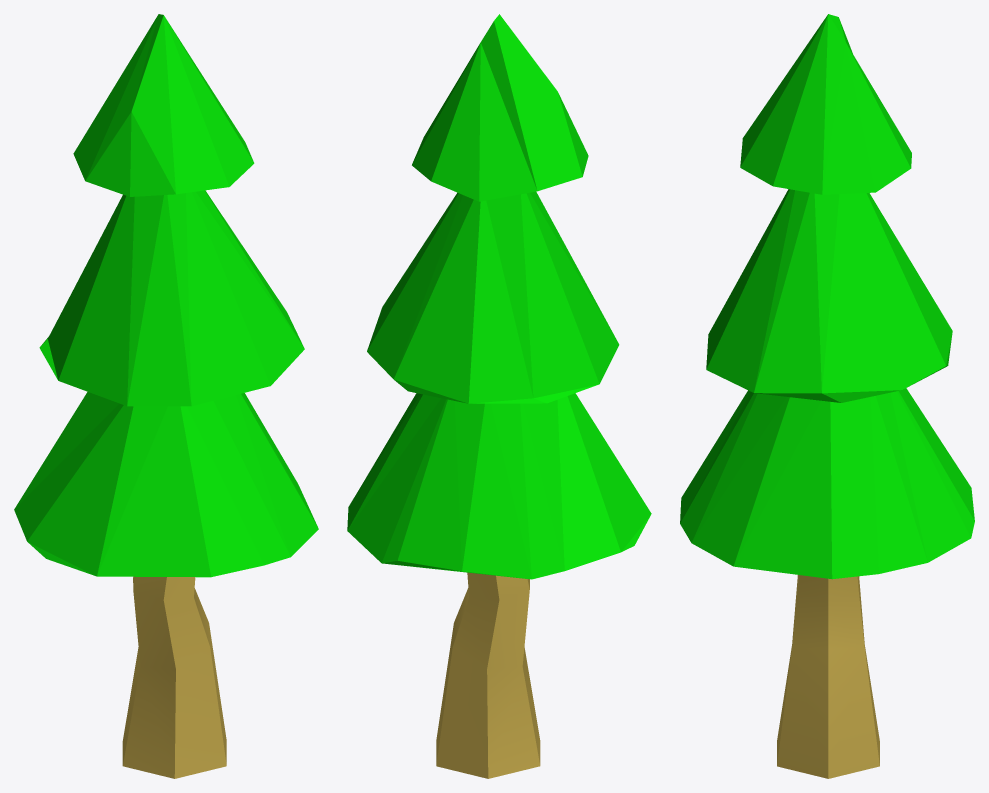
File: tree2.fbx
3 renders of one model, left to right at view 1: azimuth 30°, elevation 25°; view 2: azimuth 150°, elevation 25°; view 3: azimuth 270°, elevation 25°, orthographic.
Parts seen in each view (by area): view 1: pCylinder1, pCylinder2; view 2: pCylinder1, pCylinder2; view 3: pCylinder1, pCylinder2.
Part boxes in pixels (<box>): pCylinder1: <box>14,14,318,577</box>; pCylinder2: <box>122,576,226,778</box>; pCylinder1: <box>347,14,651,579</box>; pCylinder2: <box>436,572,540,778</box>; pCylinder1: <box>680,14,974,579</box>; pCylinder2: <box>777,575,879,778</box>.
Bounding box in the file's own units: 2.18 × 5.8 × 2.11.
